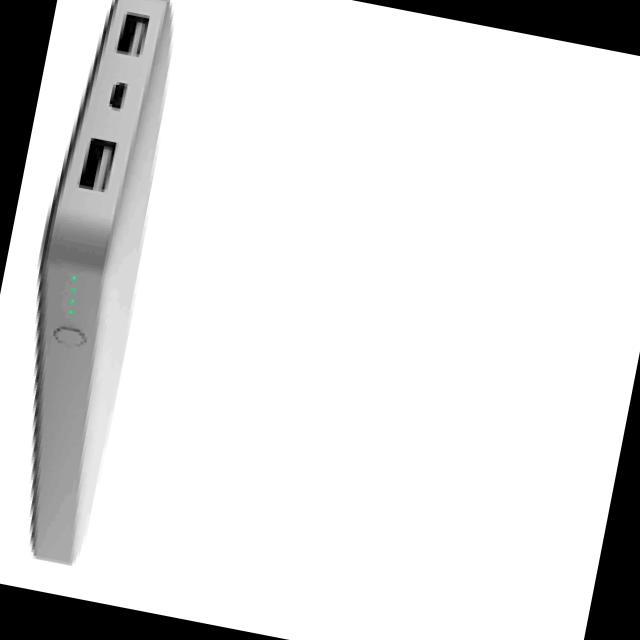power_bank: (0, 0, 190, 571)
